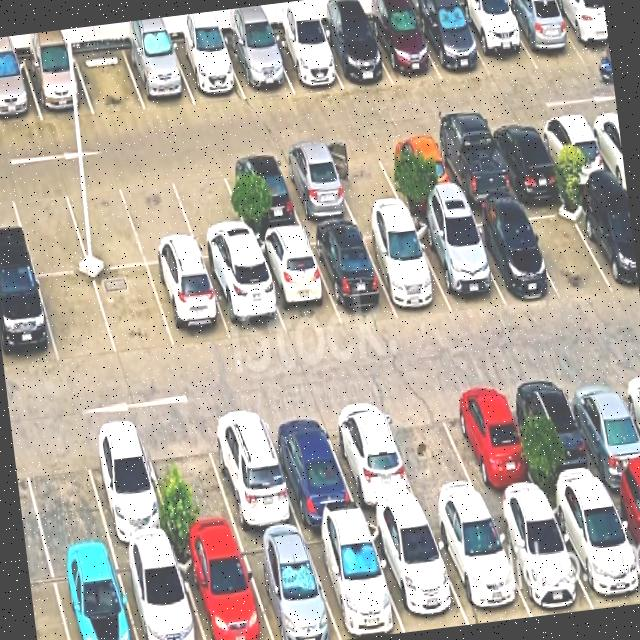empty: (377, 388, 485, 513), (141, 421, 239, 543), (19, 431, 111, 559), (518, 194, 615, 295), (168, 161, 253, 258), (62, 175, 146, 270), (8, 181, 89, 275), (119, 170, 200, 264), (93, 265, 174, 356), (37, 272, 116, 363), (324, 142, 405, 218), (73, 46, 145, 115)
occupied: (440, 380, 542, 504), (202, 407, 300, 535), (486, 499, 593, 616), (426, 506, 531, 624), (320, 398, 422, 516), (302, 522, 404, 640), (365, 516, 468, 632), (79, 425, 174, 549), (261, 406, 359, 526), (510, 373, 605, 495), (547, 488, 640, 609), (237, 531, 340, 640), (174, 538, 272, 640), (561, 368, 640, 486), (462, 207, 557, 304), (411, 214, 505, 312), (253, 232, 341, 335), (306, 225, 396, 324), (358, 220, 451, 315), (114, 544, 204, 640), (50, 552, 136, 640), (147, 259, 231, 348), (202, 254, 286, 340), (571, 189, 639, 293), (429, 127, 515, 207), (221, 154, 303, 235), (275, 148, 355, 226), (456, 3, 537, 77), (377, 135, 459, 208), (486, 119, 564, 195), (500, 0, 585, 69), (0, 273, 58, 371), (366, 10, 441, 85), (535, 113, 612, 186), (412, 7, 489, 79), (317, 19, 392, 89), (122, 42, 195, 110), (170, 39, 245, 105), (23, 52, 93, 121), (268, 28, 342, 93), (223, 34, 293, 98), (550, 0, 611, 63), (606, 481, 640, 568), (0, 58, 42, 125)
